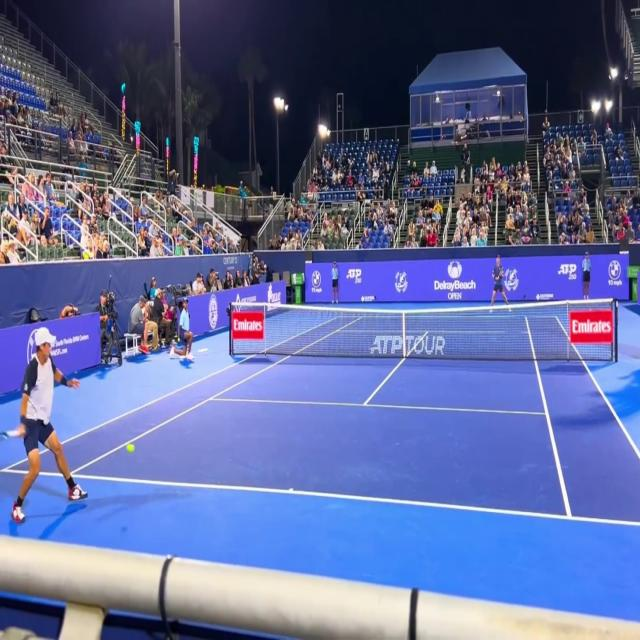tennisBall: (125, 439, 136, 457)
